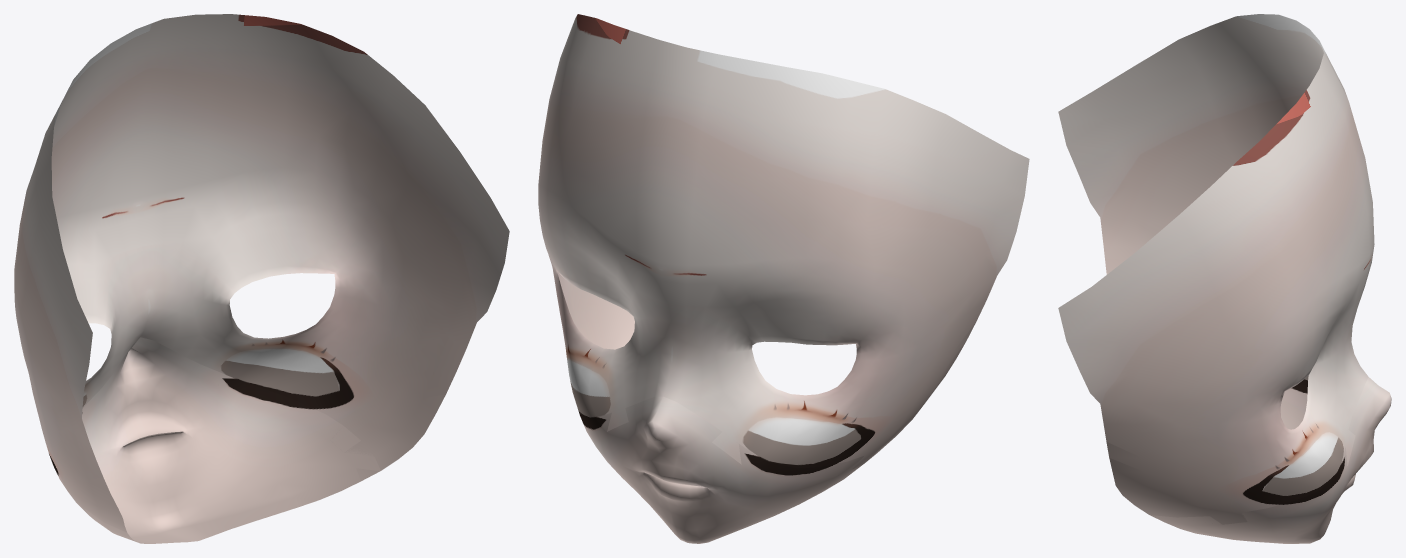
The model's file is sit_test.001.obj.
The picture shows the model from 3 angles, left to right: view 1: azimuth 30°, elevation 25°; view 2: azimuth 150°, elevation 25°; view 3: azimuth 270°, elevation 25°; orthographic projection. The views are drawn at different scales.
Parts seen in each view (by area): view 1: sit_test.001_sit_test.034; view 2: sit_test.001_sit_test.034; view 3: sit_test.001_sit_test.034.
Part boxes in pixels (left/top/right/bottom): sit_test.001_sit_test.034: left=14, top=14, right=509, bottom=543; sit_test.001_sit_test.034: left=538, top=14, right=1029, bottom=543; sit_test.001_sit_test.034: left=1058, top=14, right=1391, bottom=543.
Size of the model in its own units: 0.3598 by 0.4161 by 0.2584.
